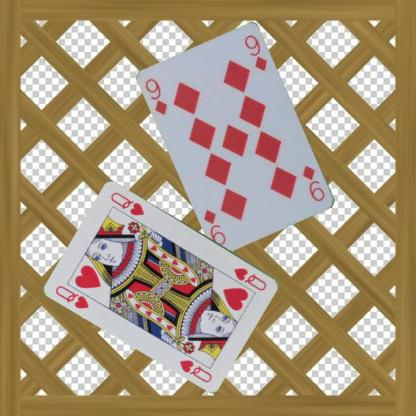9d: (300, 162, 326, 204), (143, 76, 169, 116)
Qh: (53, 283, 91, 310), (232, 264, 268, 292)
